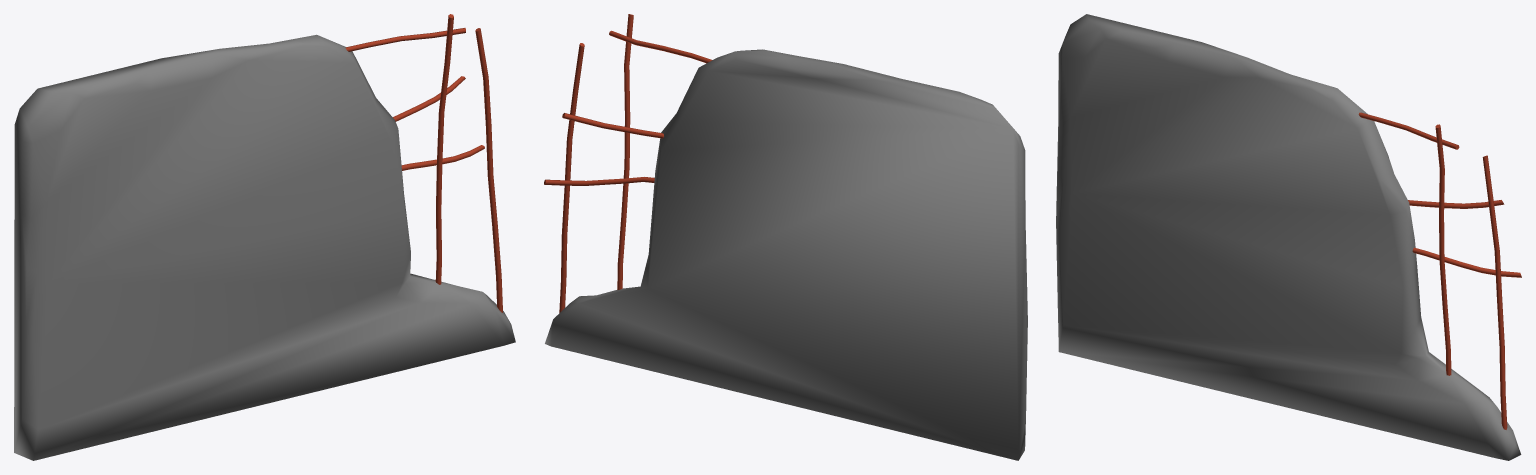
Rendered from SM_wall_broken_02.fbx.
The picture shows the model from 3 angles, left to right: view 1: azimuth 30°, elevation 25°; view 2: azimuth 150°, elevation 25°; view 3: azimuth 330°, elevation 25°; orthographic projection. The views are drawn at different scales.
Visible parts, largest first — view 1: Object016; view 2: Object016; view 3: Object016.
Boxes of the visible parts, box(x1,y1,x2,y2) form: Object016: box(14, 14, 515, 460); Object016: box(544, 14, 1027, 460); Object016: box(1056, 14, 1521, 460).
Size of the model in its own units: 198 by 138 by 21.94.
